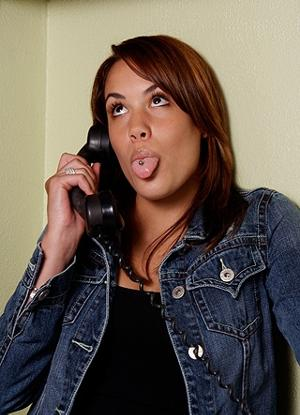person: (1, 37, 300, 415)
